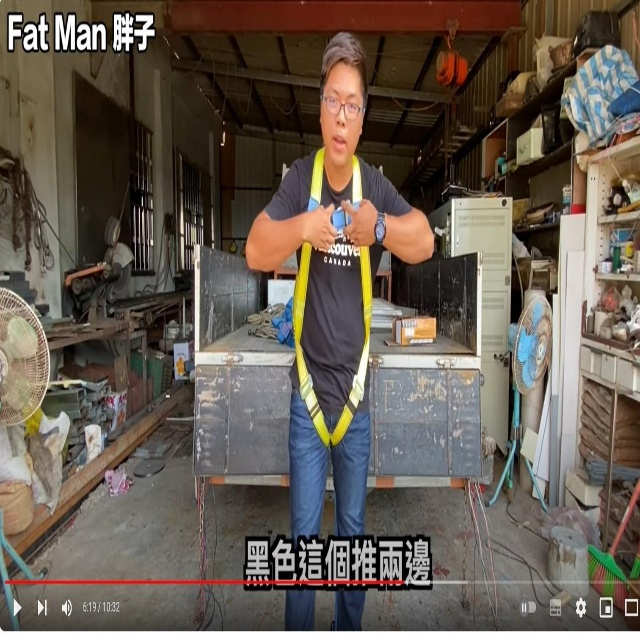Arnes_seguridad: (293, 148, 372, 449)
